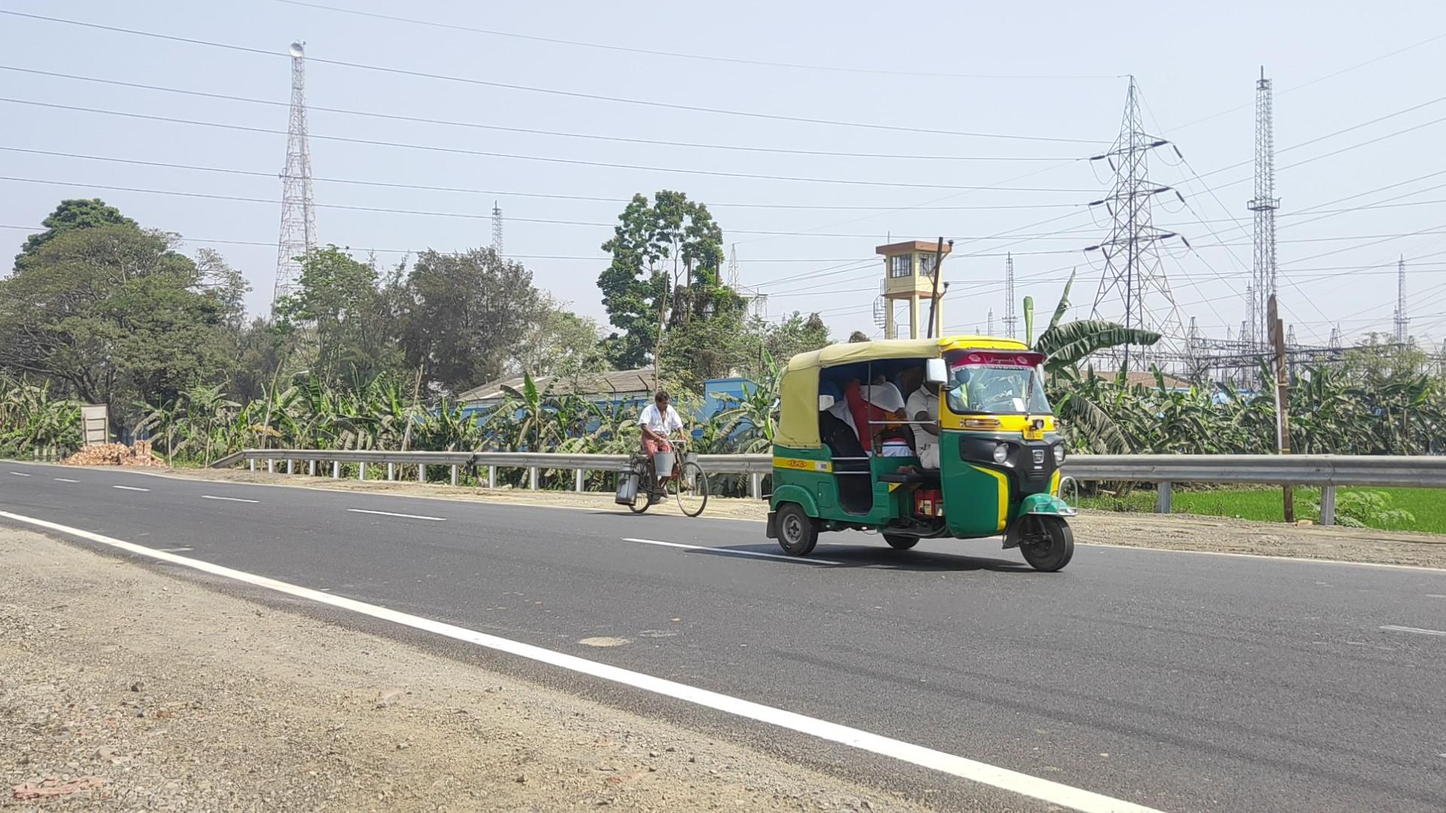Auto: (767, 335, 1078, 573)
bike: (615, 391, 708, 517)
